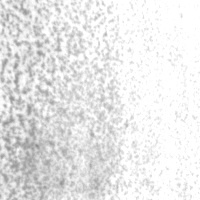pitted_surface: (0, 1, 122, 200), (126, 4, 188, 199)
